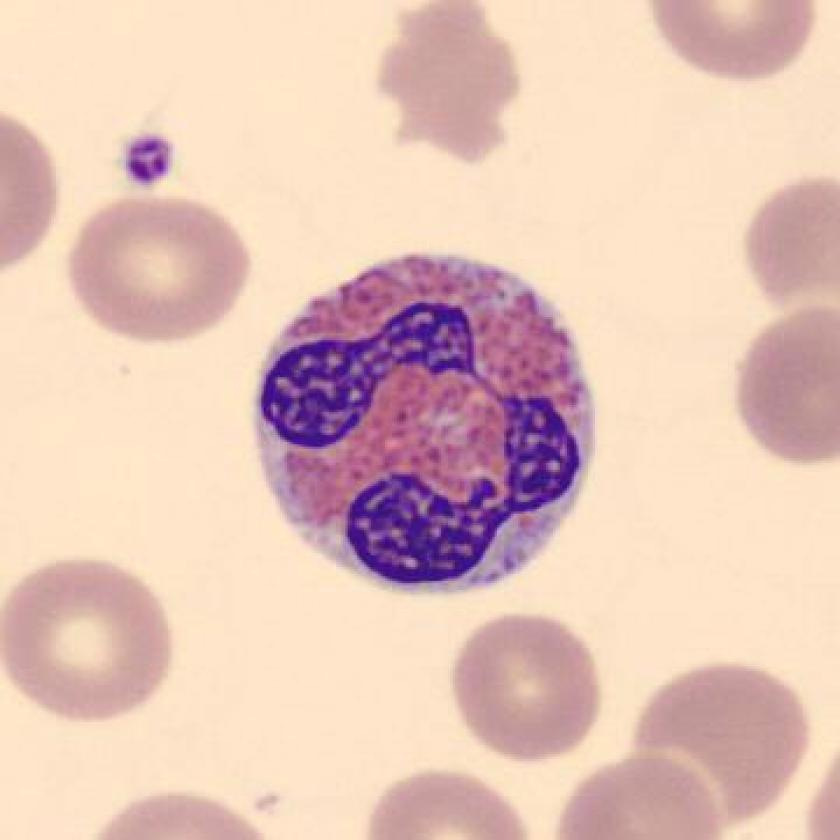eosinophil: (237, 237, 610, 612)
